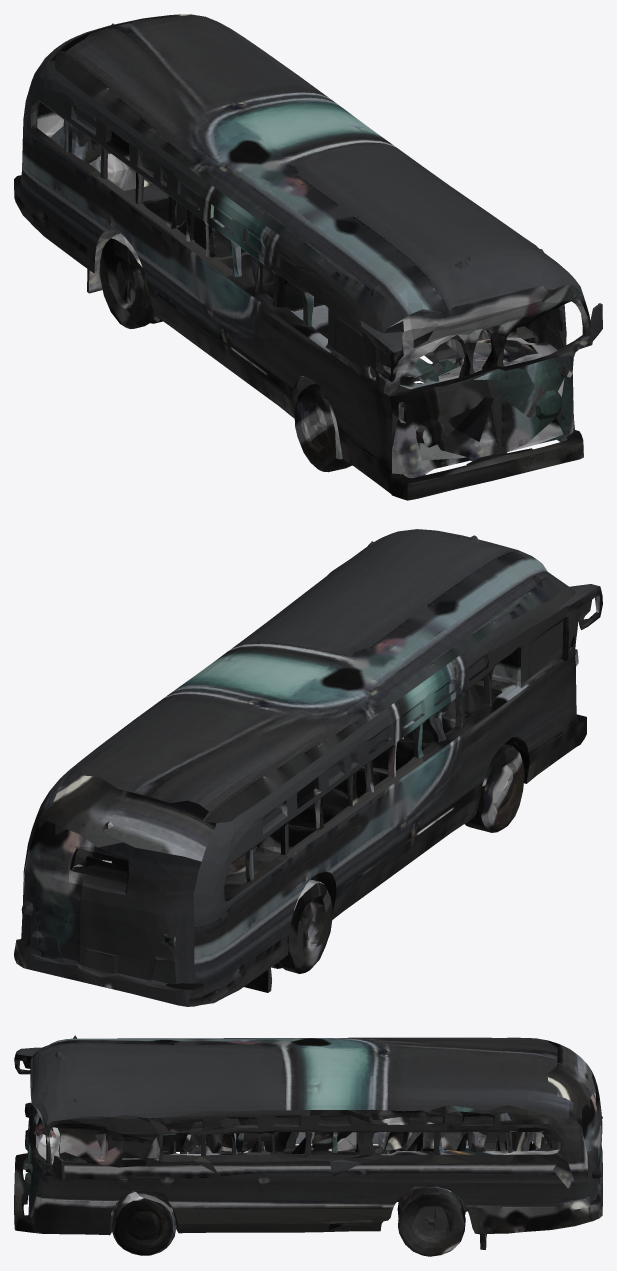
The model's file is bus_1960_gmc.gltf.
3 renders of one model, top to bottom at view 1: azimuth 30°, elevation 25°; view 2: azimuth 150°, elevation 25°; view 3: azimuth 270°, elevation 25°, orthographic. The views are drawn at different scales.
Visible parts, largest first — view 1: world; view 2: world; view 3: world.
Boxes of the visible parts, x1,y1,x2,y2 form: world: (14, 14, 602, 500); world: (14, 529, 602, 1006); world: (14, 1035, 602, 1256).
Bounding box in the file's own units: 0.3512 × 0.3192 × 0.9989.
Materials: 1 (1 with a texture image).
